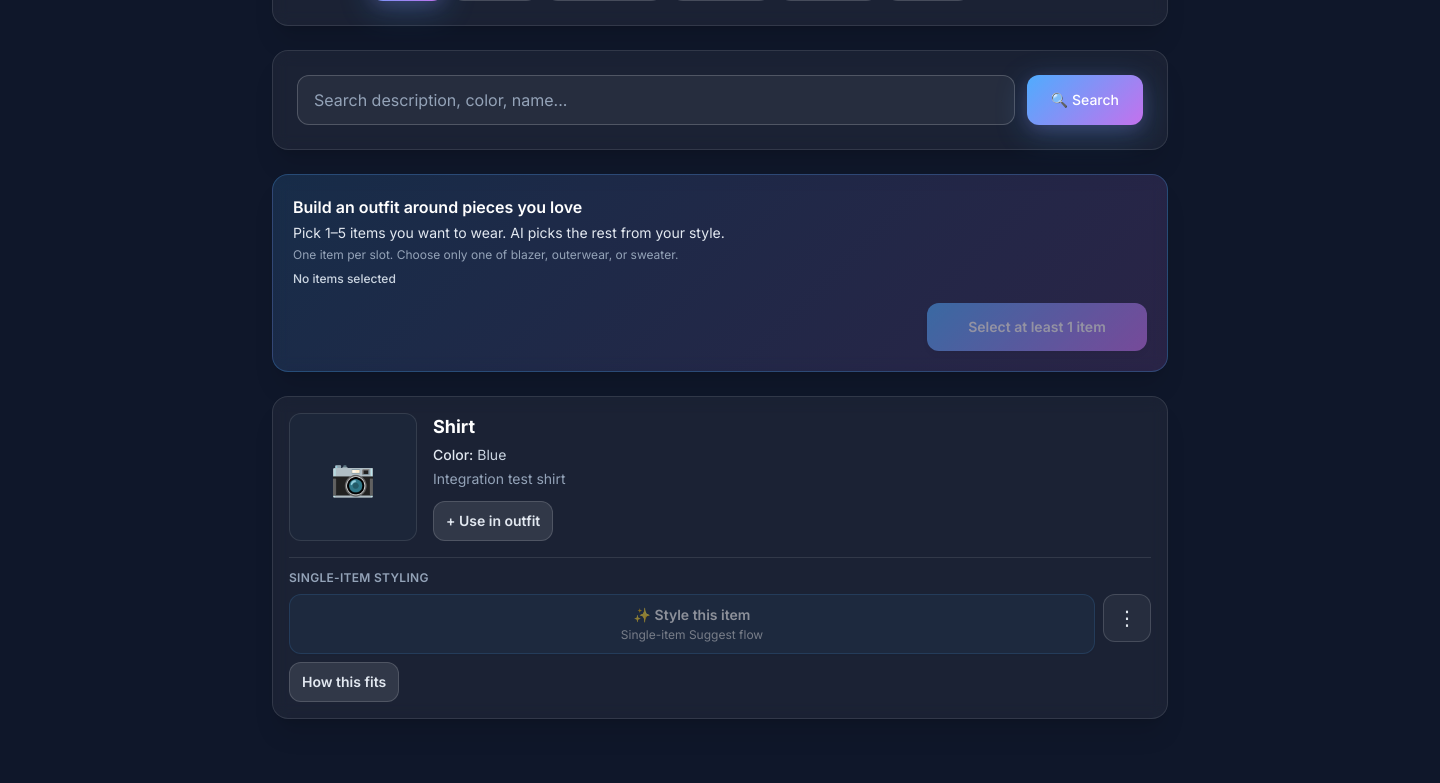
Test case: WardrobeFitEvaluate integration › prefills the goal from saved Insights preferences
(page scrolled)
Expected: the text "Integration test shirt" is shown, [433, 470, 566, 487]
Click the button with test id "wardrobe-how-this-fits-1": (344, 682) [289, 662, 399, 702]
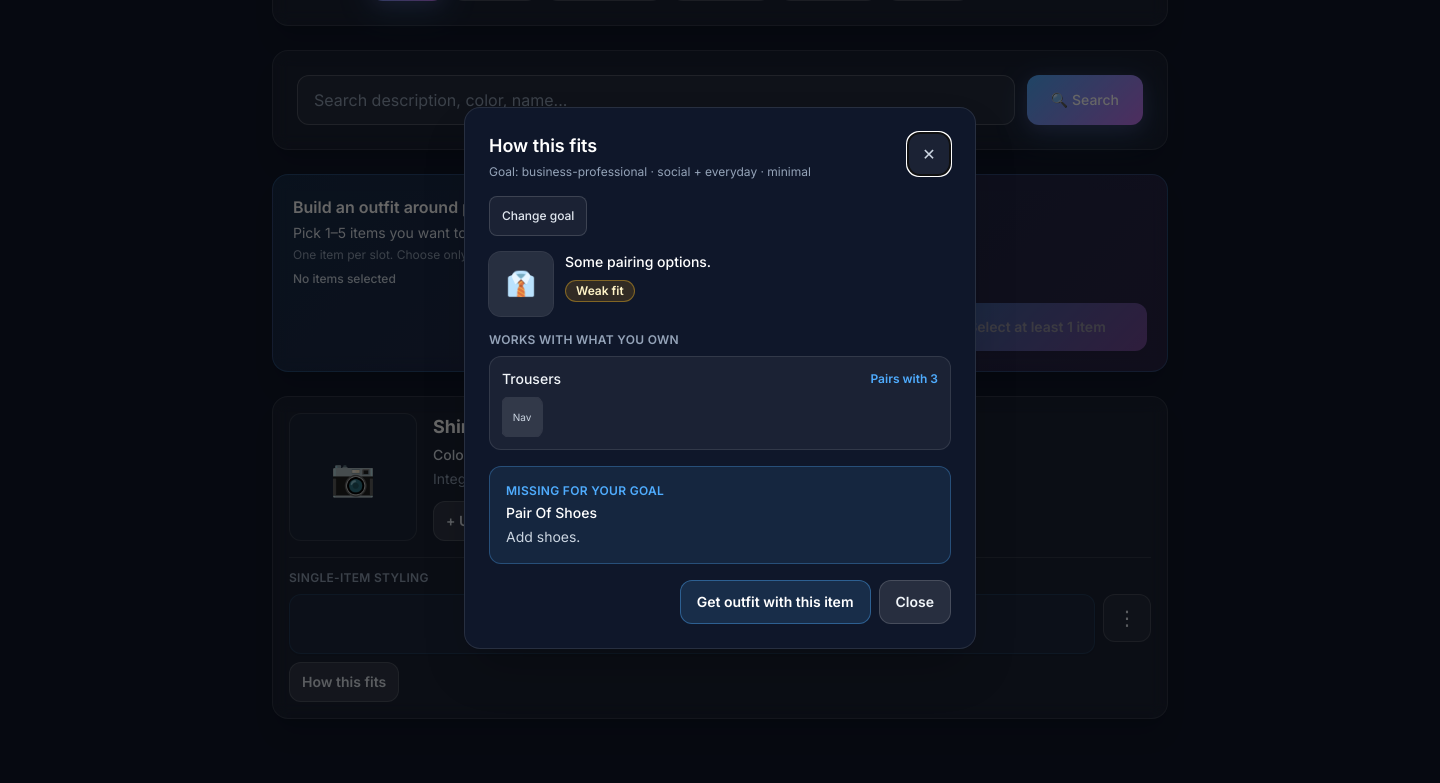
Expected: the text with test id "wardrobe-fit-goal-hint" reads "Goal: business-professional · social + everyday · minimal", [489, 164, 811, 179]
